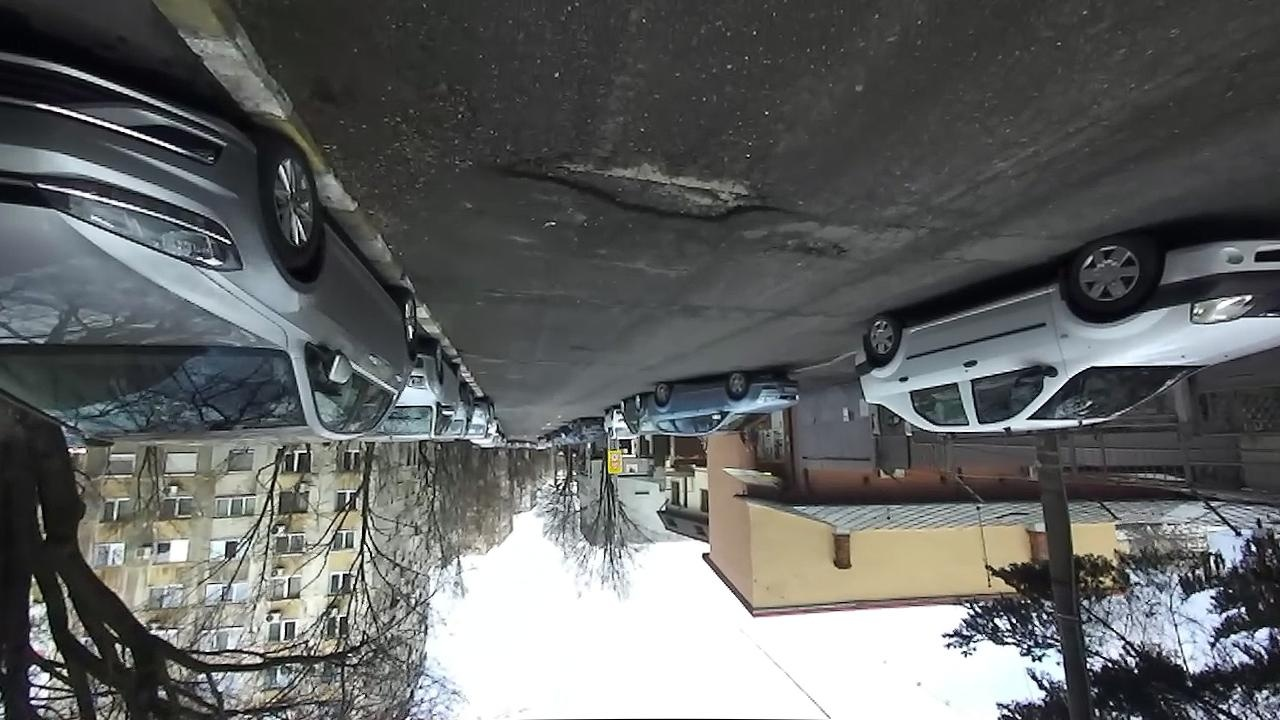pothole: (488, 147, 797, 227), (766, 233, 854, 266)
